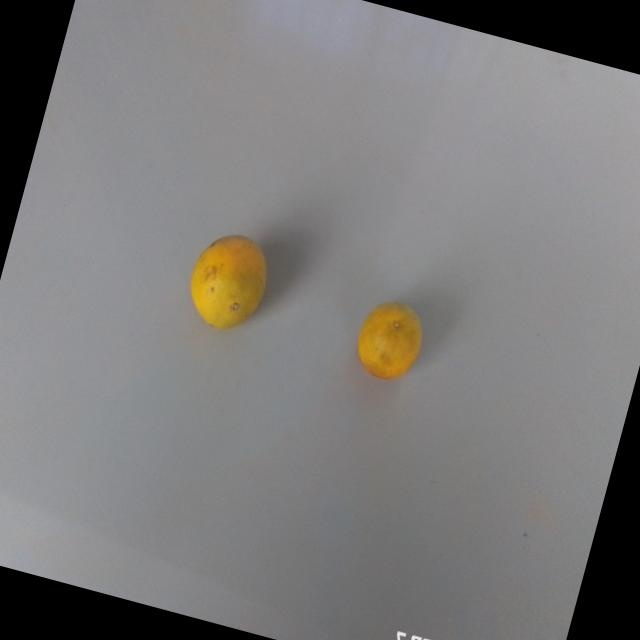agrume: (175, 215, 281, 348), (343, 276, 449, 404)
